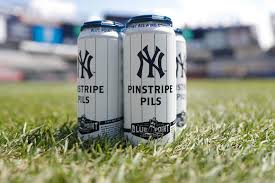can: (126, 15, 177, 150), (74, 19, 128, 145)
